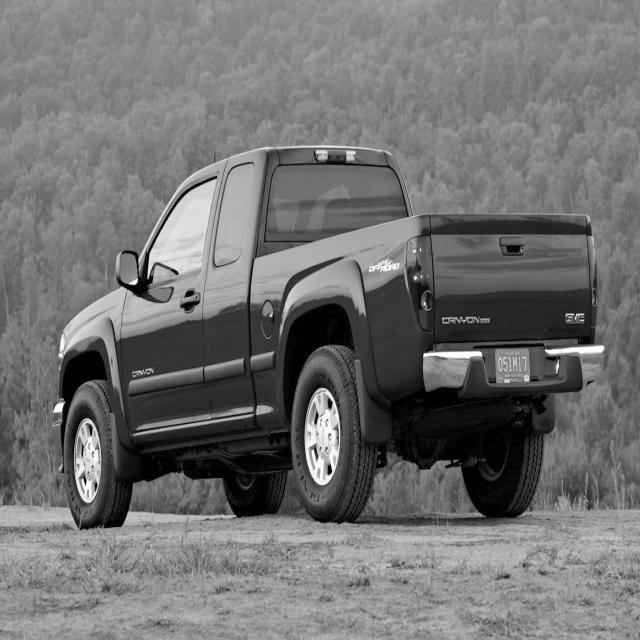car: (51, 143, 604, 528)
plat_license: (494, 347, 530, 385)
